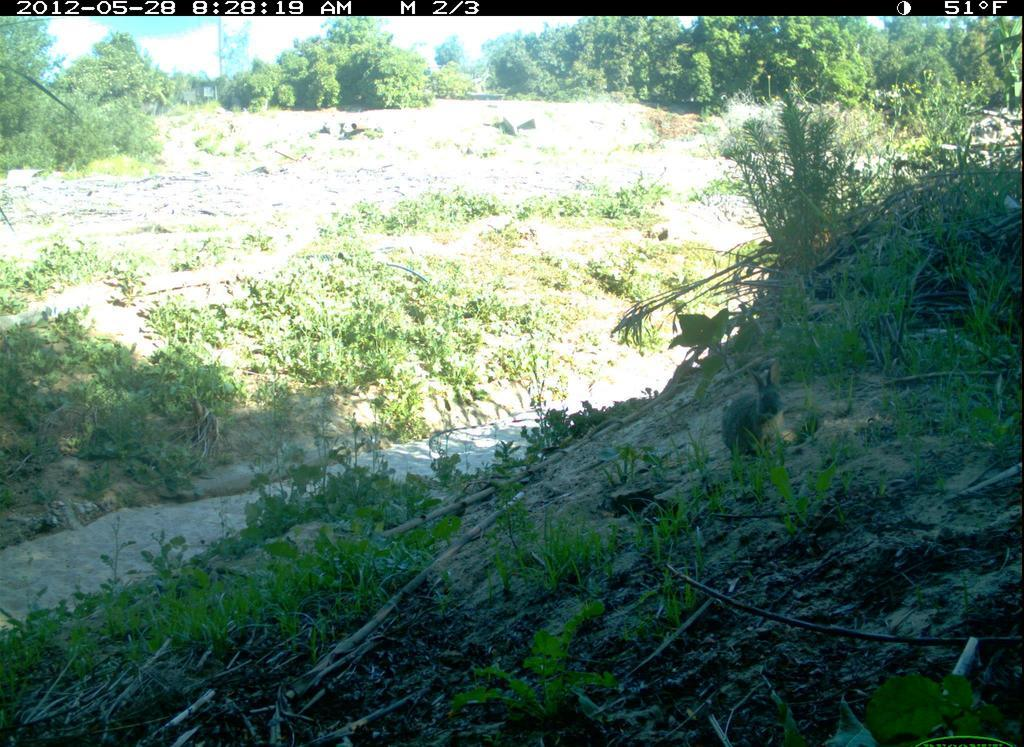rabbit: (712, 363, 806, 465)
